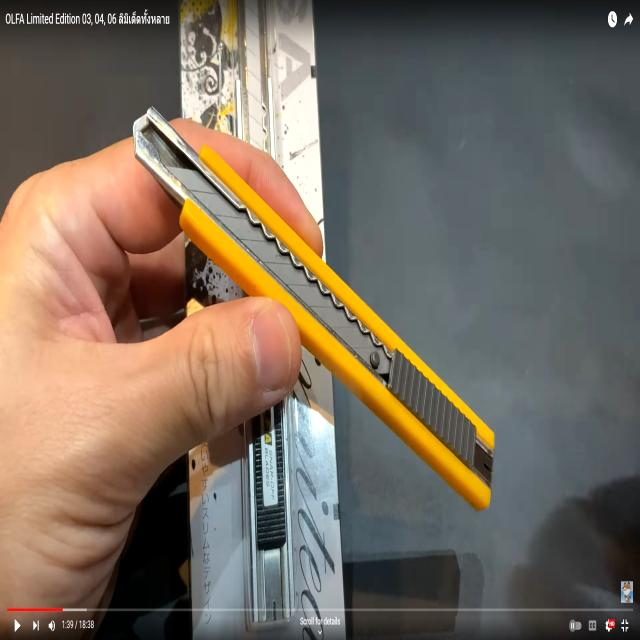cutter: (130, 102, 498, 519)
